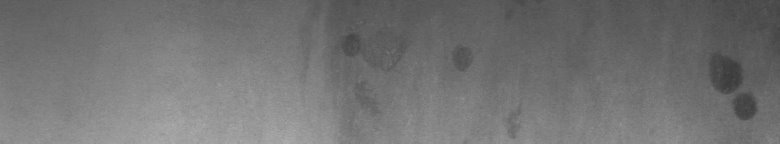fi: (708, 48, 763, 128)
